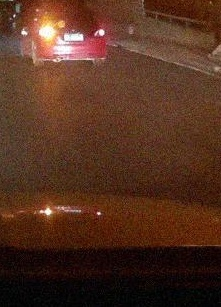L_light: (39, 28, 54, 37)
R_light: (94, 28, 105, 37)
T_light: (58, 5, 67, 9)
night-left: (35, 0, 106, 67)
